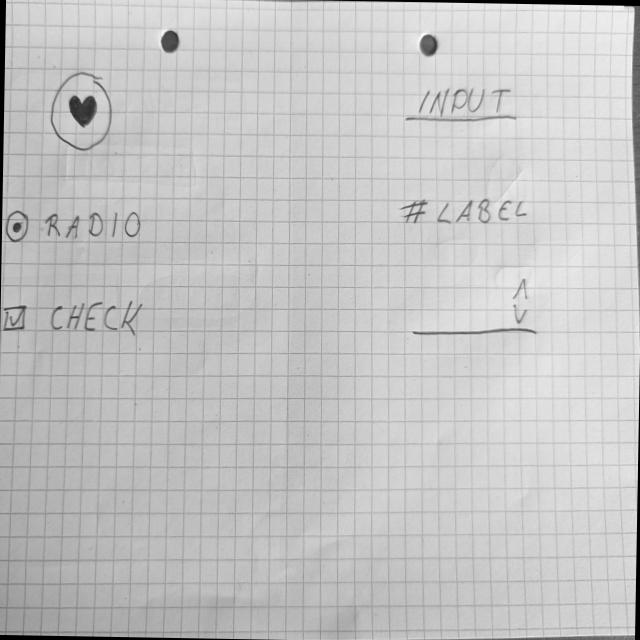checkbox: (0, 296, 146, 338)
icon-button: (49, 70, 114, 154)
input: (401, 80, 518, 124)
label: (398, 192, 533, 230)
number-input: (408, 272, 540, 340)
radio: (4, 203, 144, 247)
